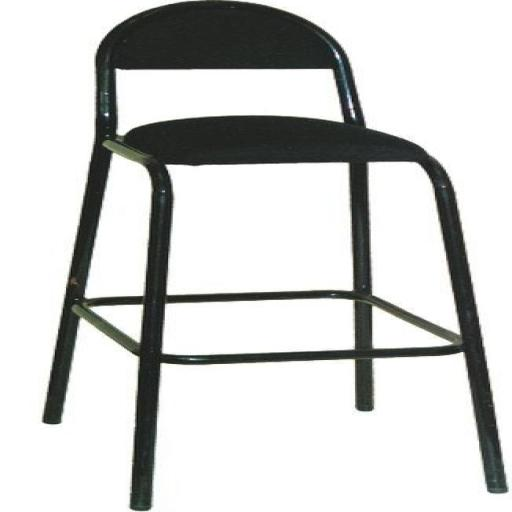bus: (44, 0, 506, 511)
